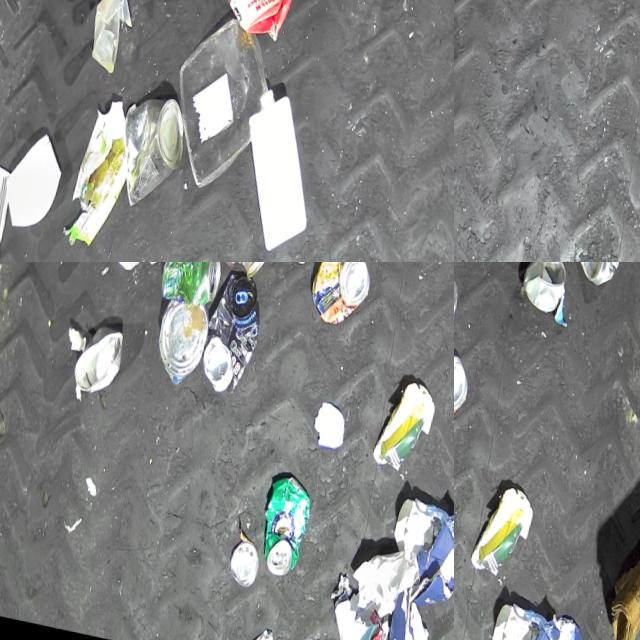can: (113, 87, 189, 213), (198, 265, 266, 396), (258, 467, 314, 577), (152, 293, 211, 387), (70, 320, 126, 401), (307, 262, 374, 325), (161, 262, 225, 307), (520, 262, 570, 306), (227, 534, 261, 585), (454, 339, 472, 430), (236, 262, 279, 277)
milk_jug: (229, 75, 326, 254)
non_white_jug: (197, 0, 304, 46)
